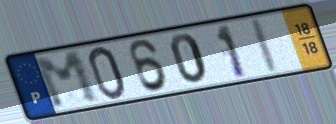0: (86, 45, 128, 102), (168, 32, 210, 86)
1: (213, 22, 251, 79)
6: (126, 36, 168, 94)
I: (249, 15, 283, 77)
M: (30, 48, 103, 112)
